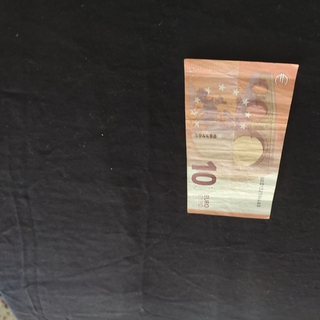10EUROBack: (183, 57, 299, 219)
